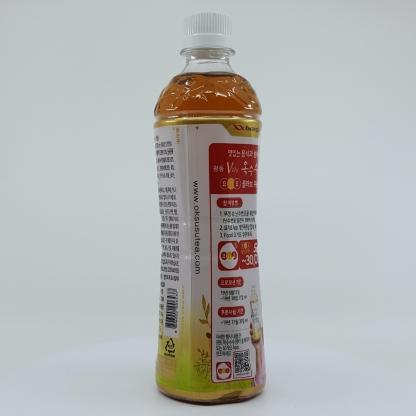---------500ML: (153, 11, 266, 404)
